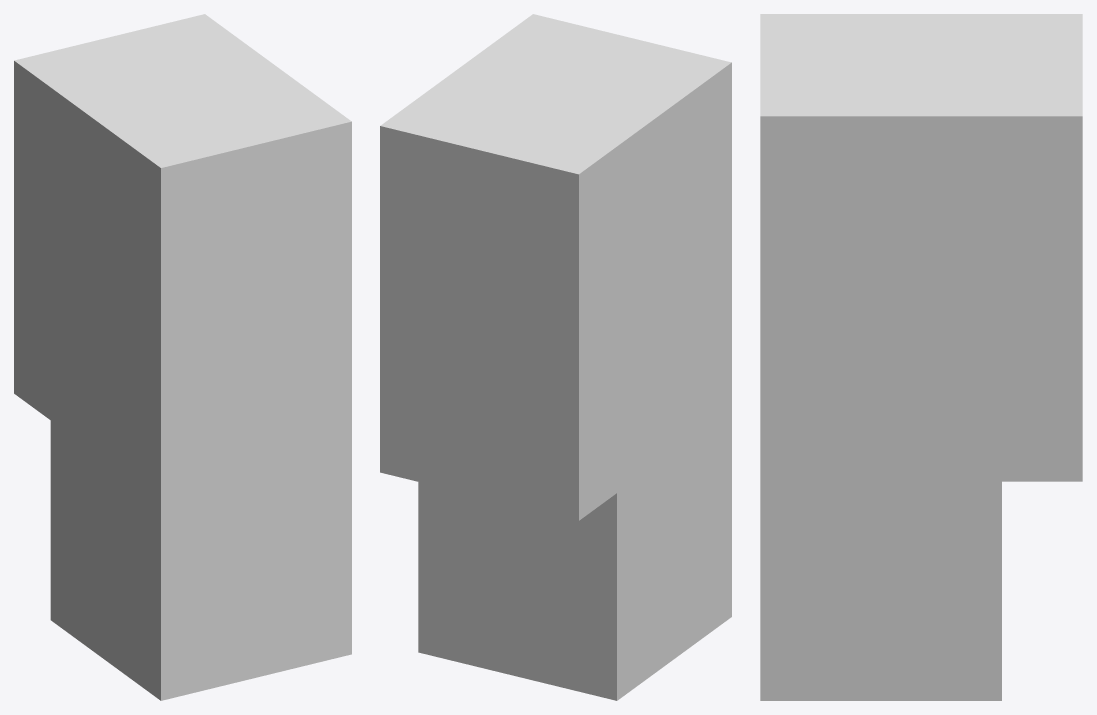
File: arm1.obj
3 views of the same model, side by side, from view 1: azimuth 30°, elevation 25°; view 2: azimuth 150°, elevation 25°; view 3: azimuth 270°, elevation 25° (orthographic). The views are drawn at different scales.
Size of the model in its own units: 3 by 8 by 4.
1 material, 1 textured.
